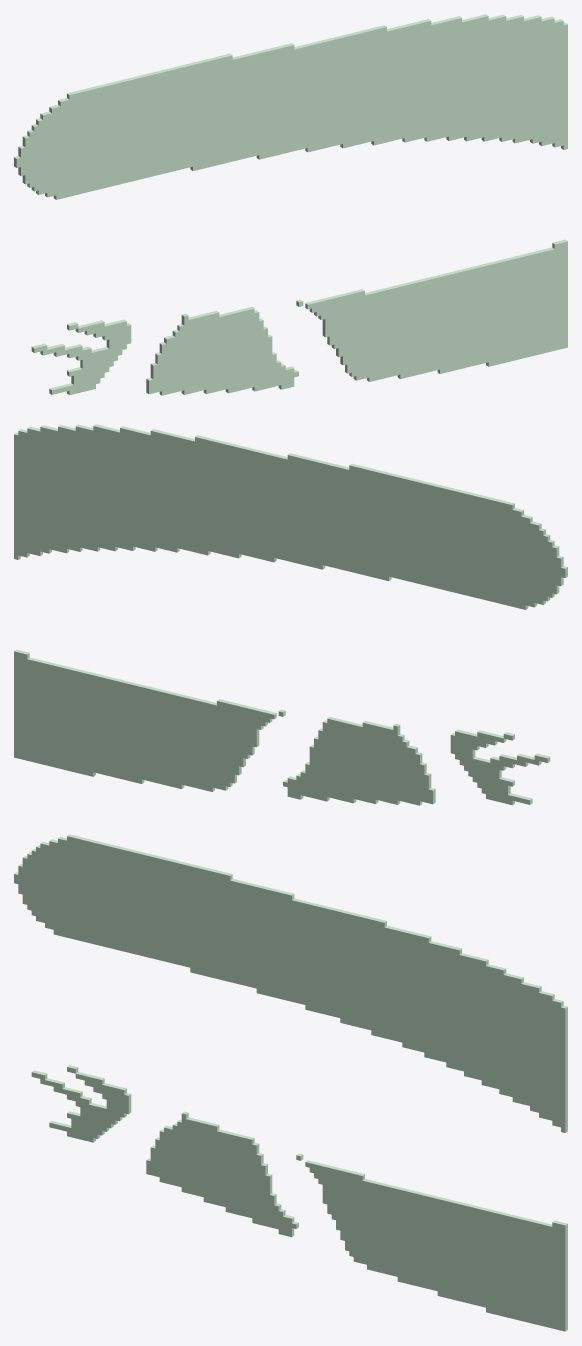
Rendered from Fight_003_2_03_fx.obj.
3 views of the same model, one above another, from view 1: azimuth 30°, elevation 25°; view 2: azimuth 150°, elevation 25°; view 3: azimuth 330°, elevation 25° (orthographic).
Bounding box in the file's own units: 12.5 × 8.1 × 0.1.
Materials: 1 (1 with a texture image).
